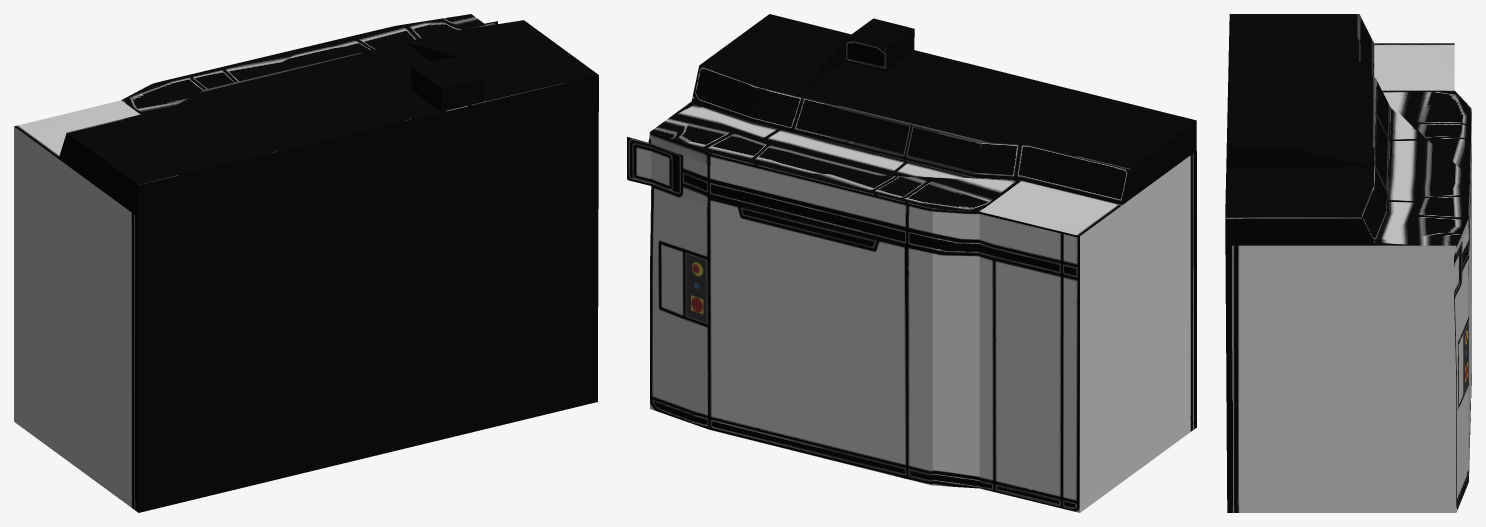
Rendered from printerD.fbx.
The picture shows the model from 3 angles, left to right: view 1: azimuth 30°, elevation 25°; view 2: azimuth 150°, elevation 25°; view 3: azimuth 270°, elevation 25°; orthographic projection. The views are drawn at different scales.
Visible parts, largest first — view 1: Printer; view 2: Printer, PrinterDoor; view 3: Printer, PrinterDoor.
Boxes of the visible parts, x1,y1,x2,y2 form: Printer: (14,14,598,512); Printer: (627,14,1196,512); PrinterDoor: (709,197,907,478); Printer: (1225,14,1471,512); PrinterDoor: (1469,185,1471,472).
Size of the model in its own units: 260 by 180 by 127.
